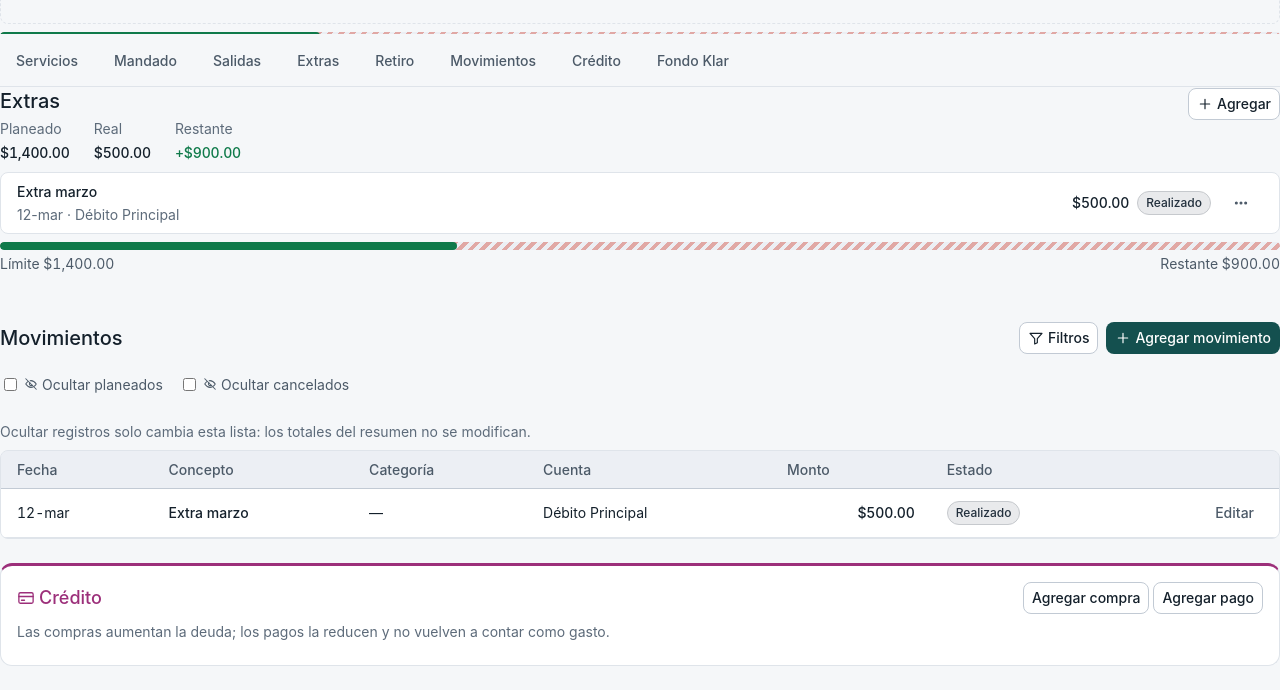
propagation › previews and confirms the extras edit without touching January or February
(page scrolled)
Click the button with aria-label "editar extra marzo" at (1235, 513), box [1206,497,1263,529]
(page scrolled)
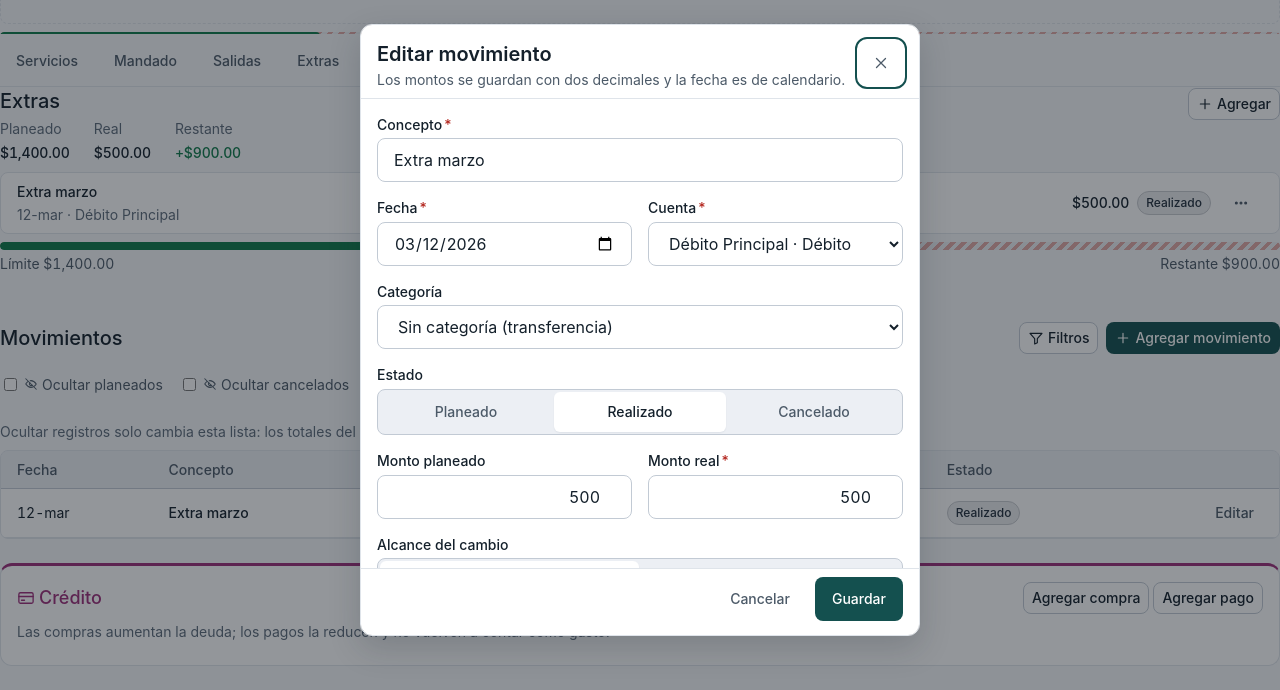
Replace the text in the number field labelled "Monto real*" with "2000" at (776, 497), box [648,475,903,519]
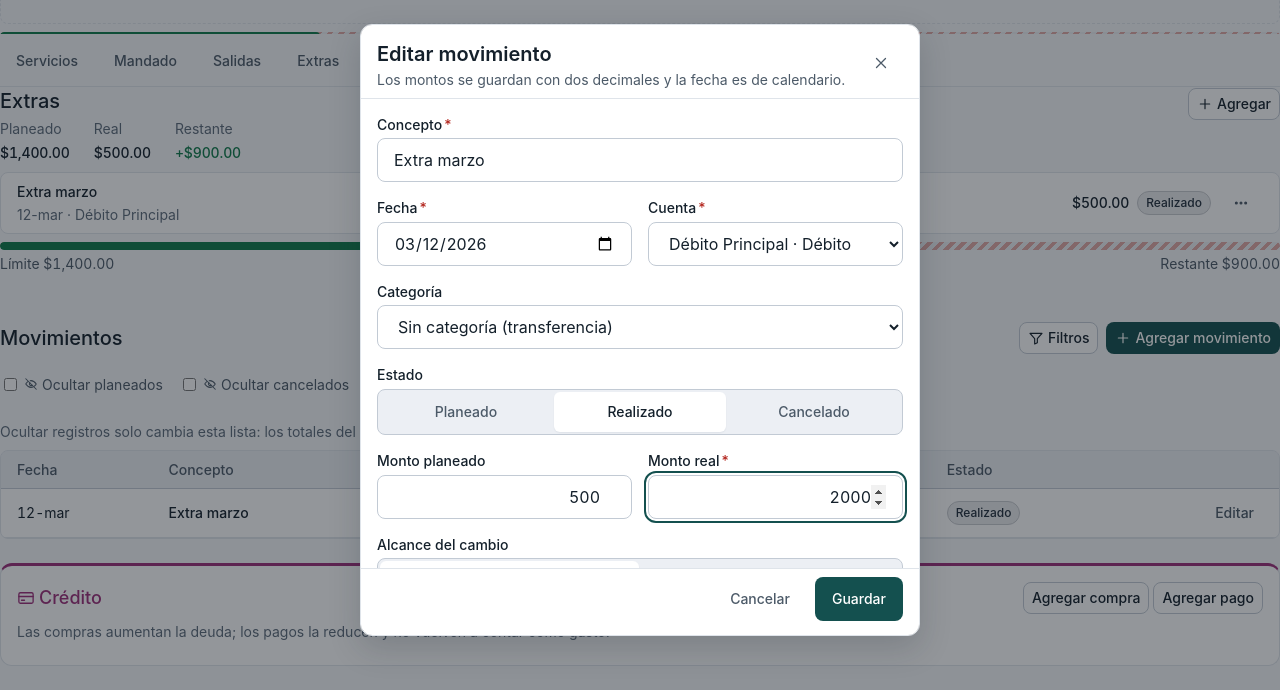
Click the button "Guardar" at (859, 599), box [815,577,903,621]
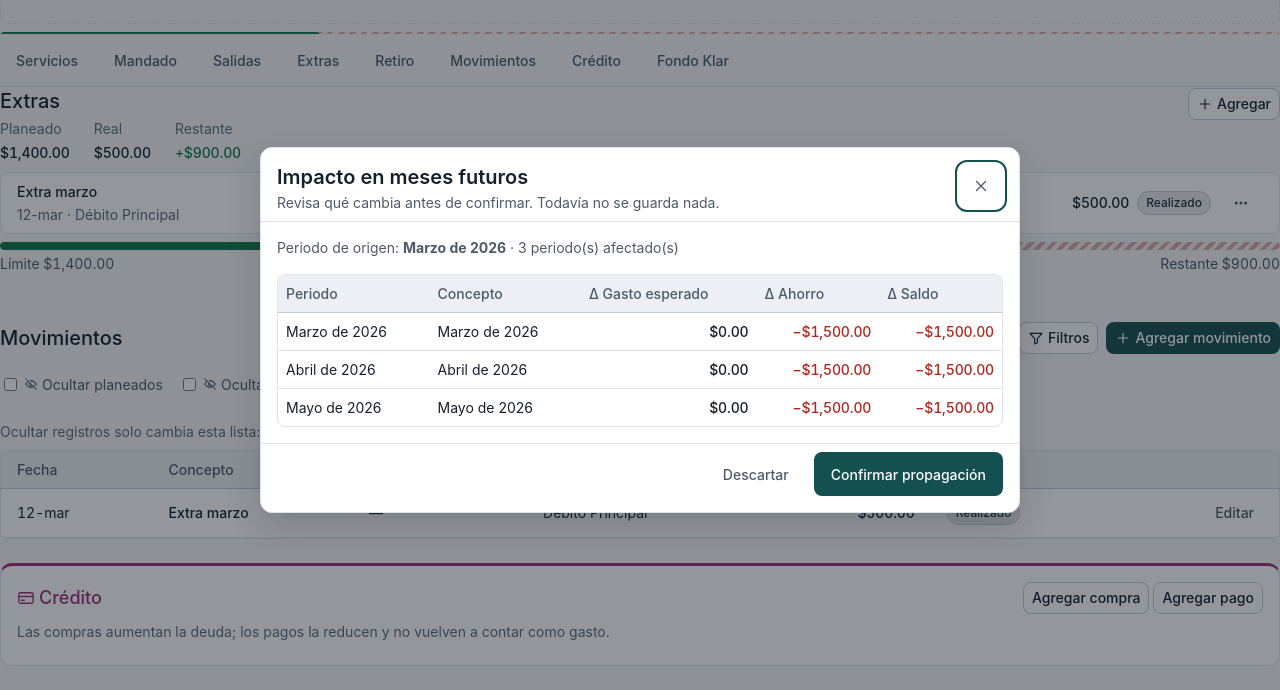
Now the heading "Impacto en meses futuros" is shown, box [277,165,528,189]
Click the button "Confirmar propagación" at (908, 474), box [814,452,1003,496]
(page scrolled)
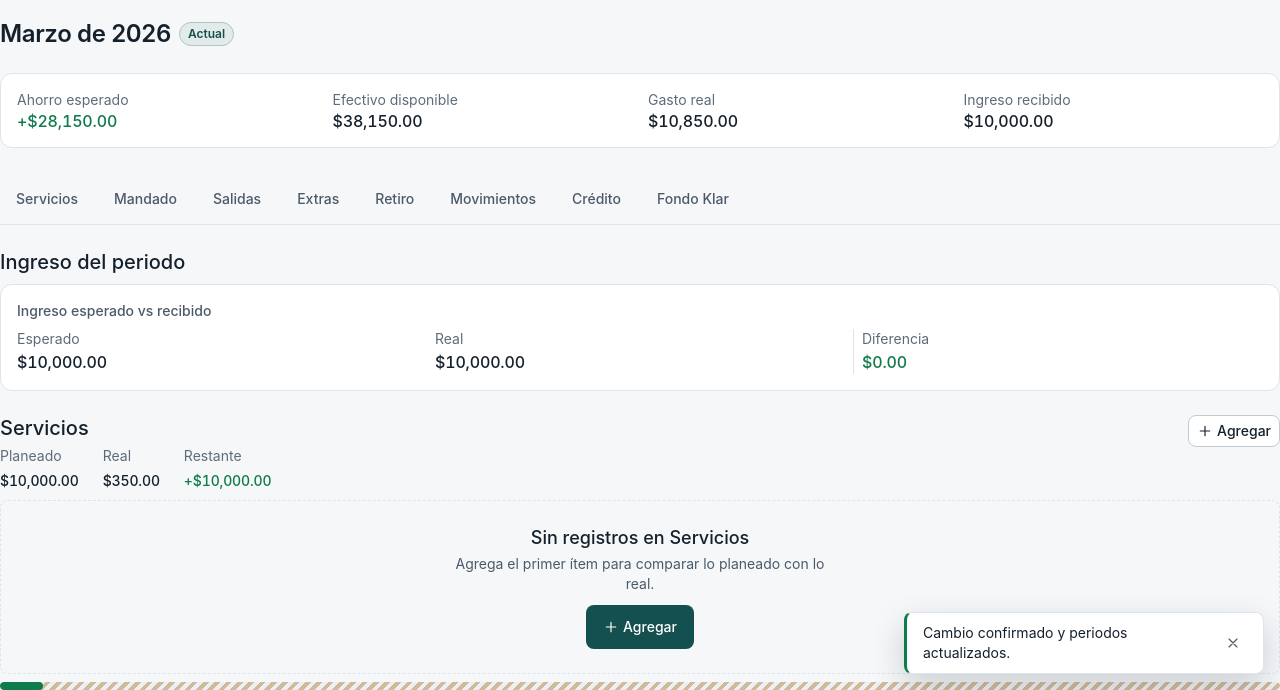
Now the text "+$28,150.00" is shown, box [17,111,117,131]
